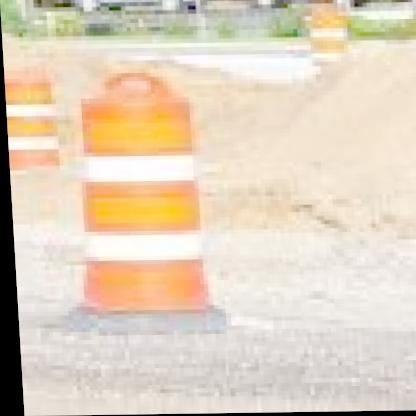obstacle: (61, 68, 227, 324)
